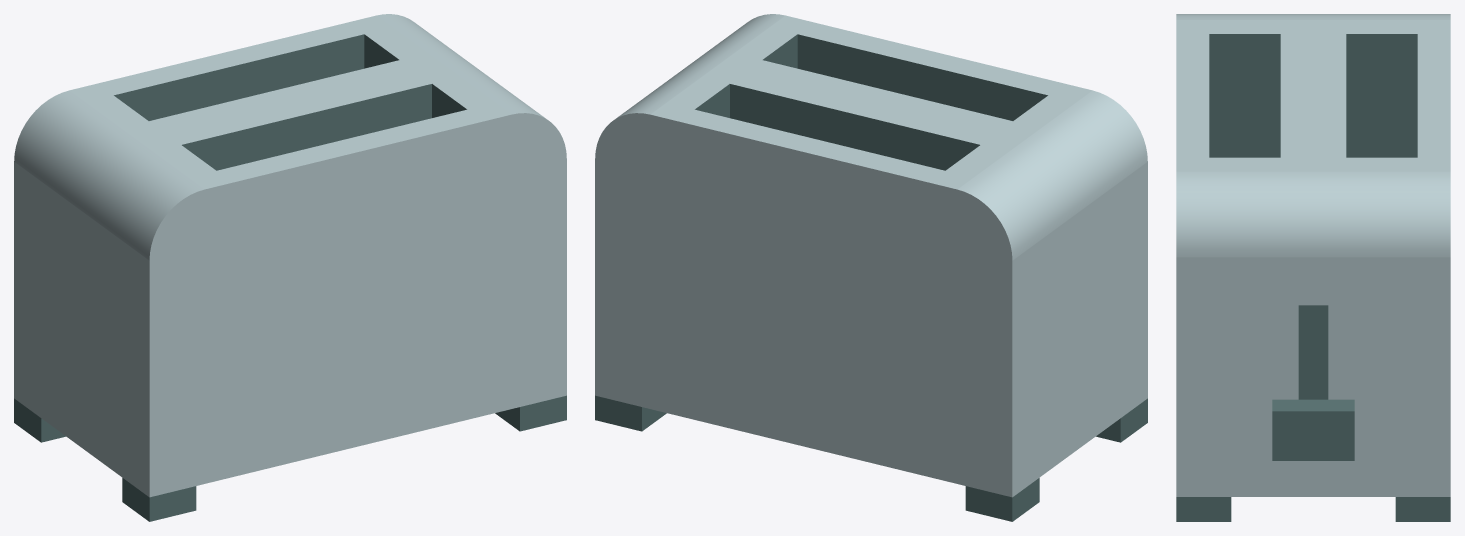
Rendered from toaster.glb.
The picture shows the model from 3 angles, left to right: view 1: azimuth 30°, elevation 25°; view 2: azimuth 150°, elevation 25°; view 3: azimuth 270°, elevation 25°; orthographic projection.
Parts seen in each view (by area): view 1: toaster; view 2: toaster; view 3: toaster.
Part boxes in pixels (x1,y1,x2,y2): toaster: [14, 14, 566, 521]; toaster: [595, 14, 1147, 521]; toaster: [1176, 14, 1450, 521].
Bounding box in the file's own units: 0.188 × 0.13 × 0.1.
